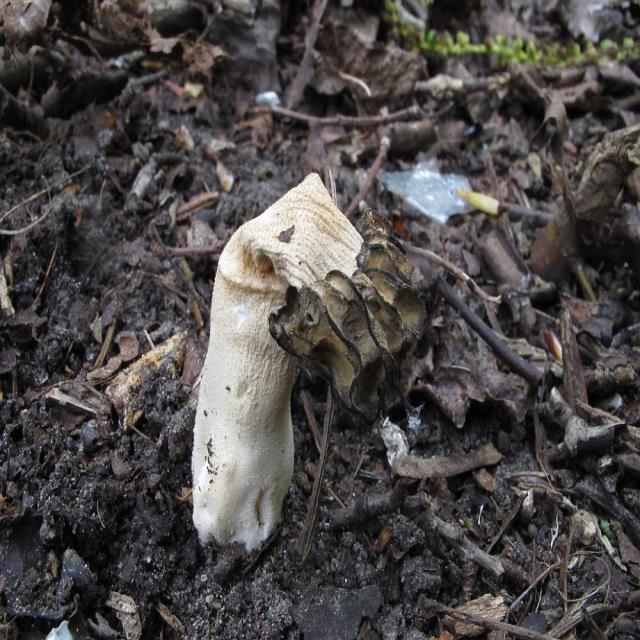Morchella esculenta: (190, 180, 430, 553)
